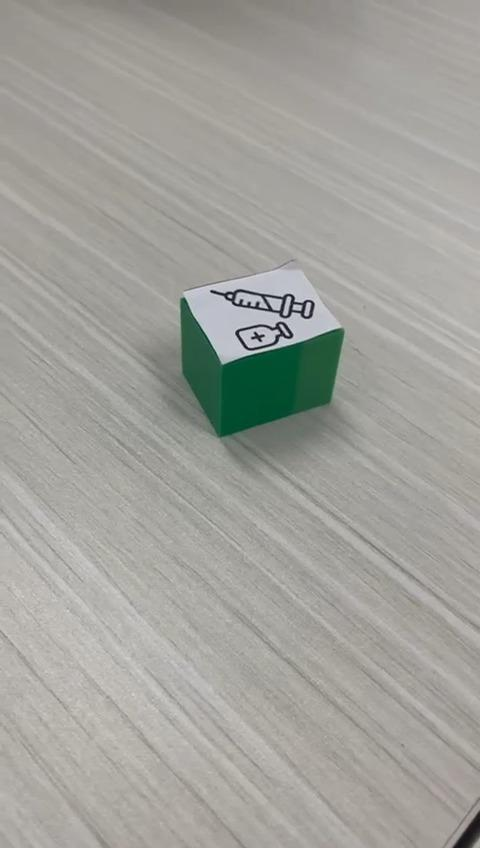antiseptic cream: (178, 257, 345, 438)
